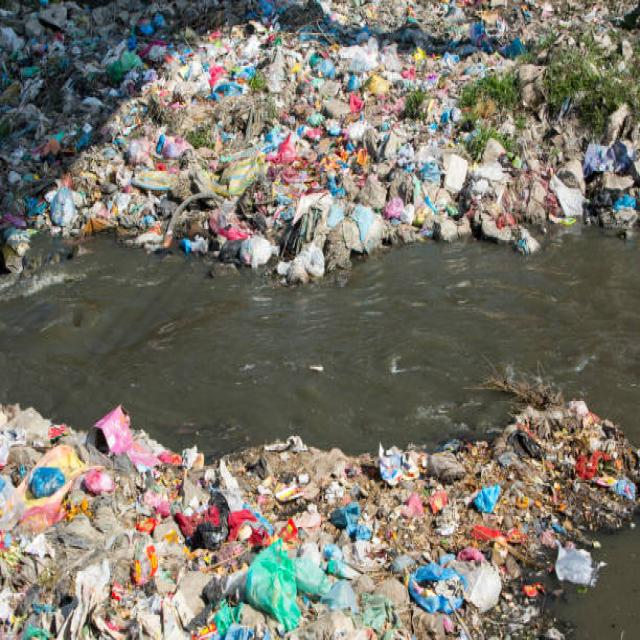trash: (5, 39, 612, 231), (3, 411, 581, 612)
